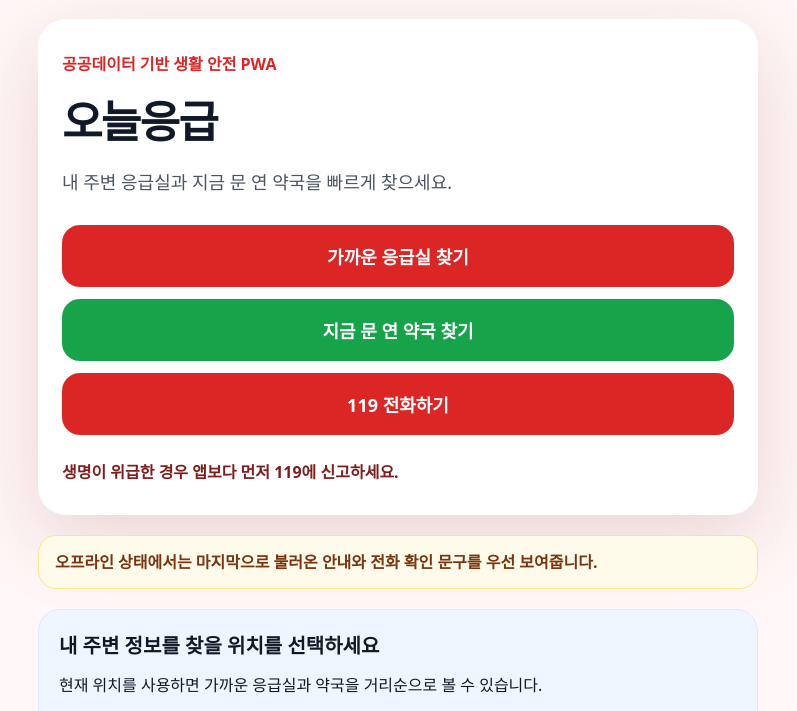
Test: 오늘응급 검색 흐름 › uses browser geolocation instead of a Seoul default when the pharmacy button is clicked
Click the button "지금 문 연 약국 찾기".
click(398, 330)  # box [62, 299, 734, 361]
(page scrolled)
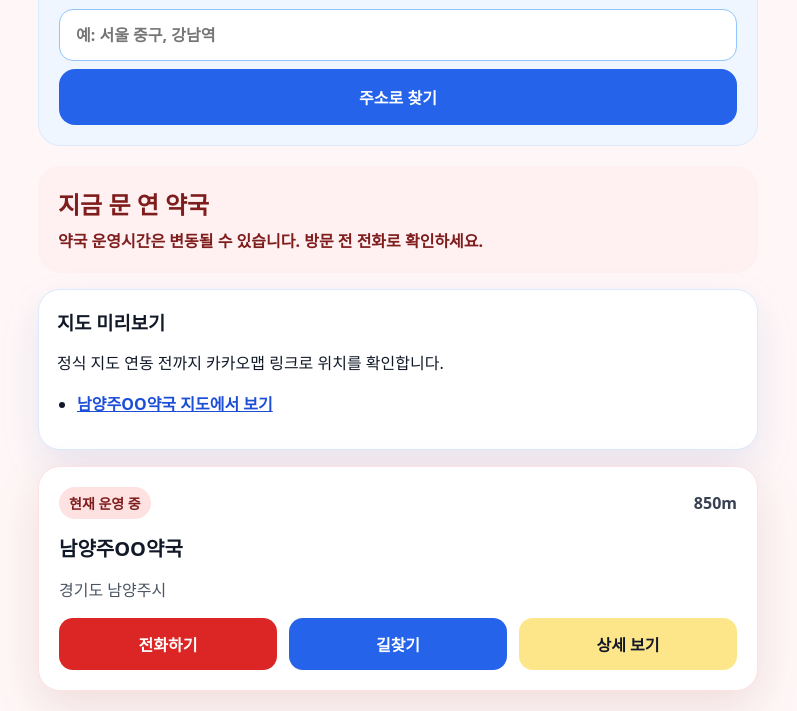
expect the heading "지금 문 연 약국" is shown: met, box [58, 188, 209, 221]
expect the heading "남양주OO약국" is shown: met, box [59, 535, 183, 562]
